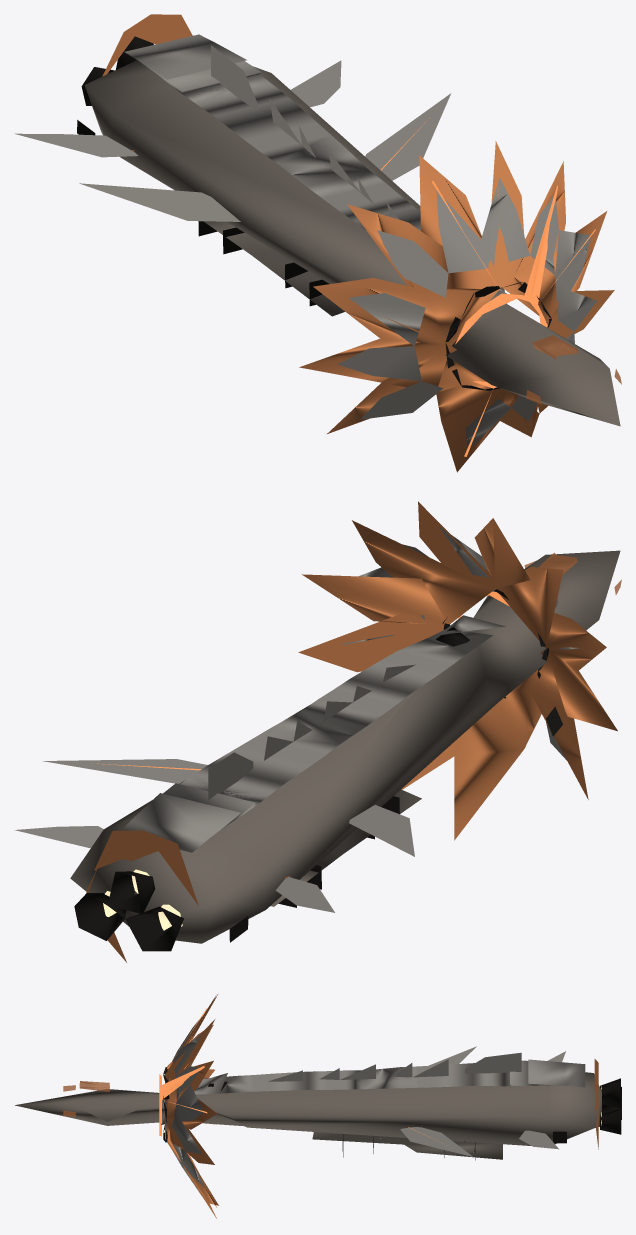
The model's file is kryza-heliotropi-trade-17-lod2.glb.
3 renders of one model, top to bottom at view 1: azimuth 30°, elevation 25°; view 2: azimuth 150°, elevation 25°; view 3: azimuth 270°, elevation 25°, orthographic. The views are drawn at different scales.
Bounding box in the file's own units: 20.43 × 17.24 × 46.7.
